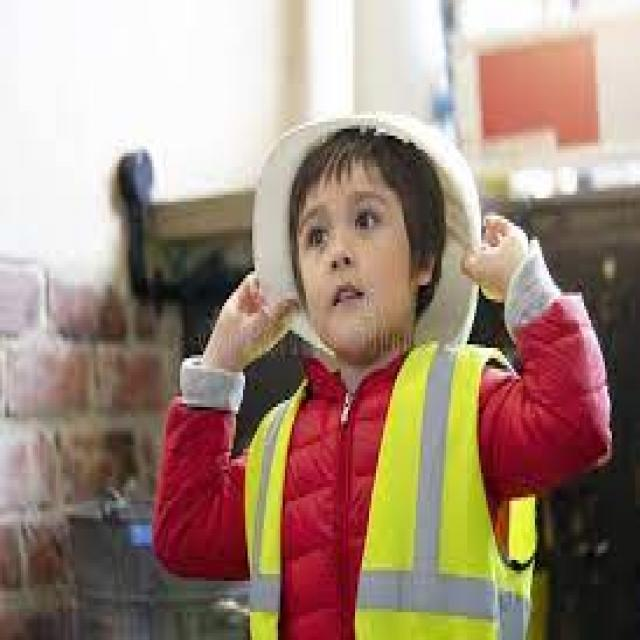Reflective-Jacket: (233, 330, 542, 633)
Safety-Helmet: (226, 73, 514, 306)
